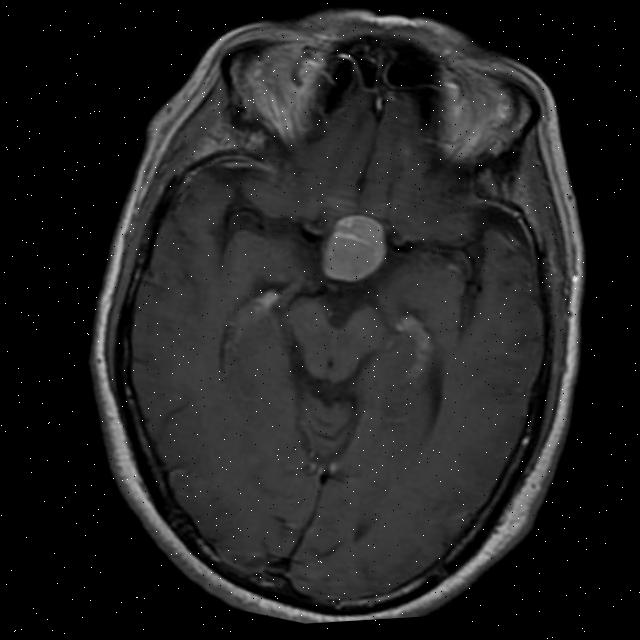Pituitary: (313, 202, 395, 291)
